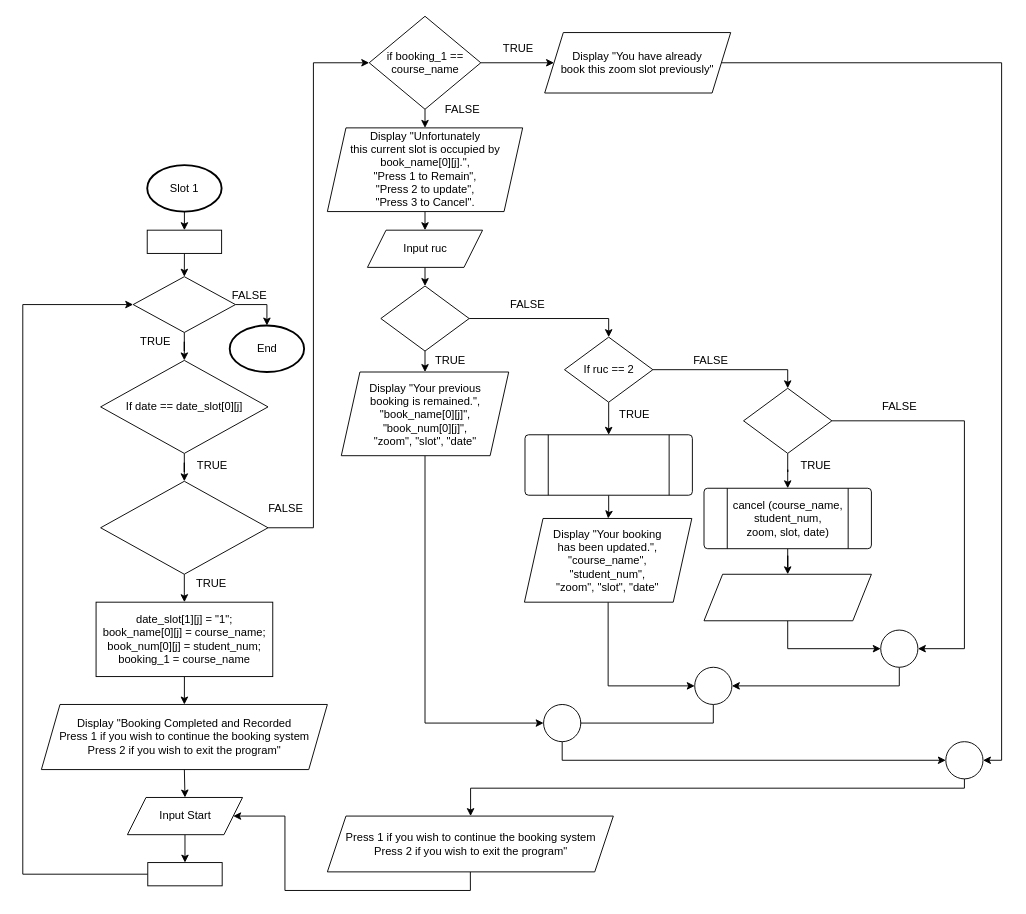
Some shapes in this 1026 by 914 pixel diagram are drawn without their labels. The shapes that lost their labels are listed below. From the top down, each one's centre as x and y in pixels, then its label:
[184,241]: j = 0
[183,304]: j < 100
[424,318]: If ruc == 1
[787,420]: If ruc == 3
[608,464]: update (course_name, student_num, zoom, slot, date)
[184,527]: If date_slot[1][j] != "1"
[787,597]: Display "Your bookings has been cancelled"
[184,874]: j++
